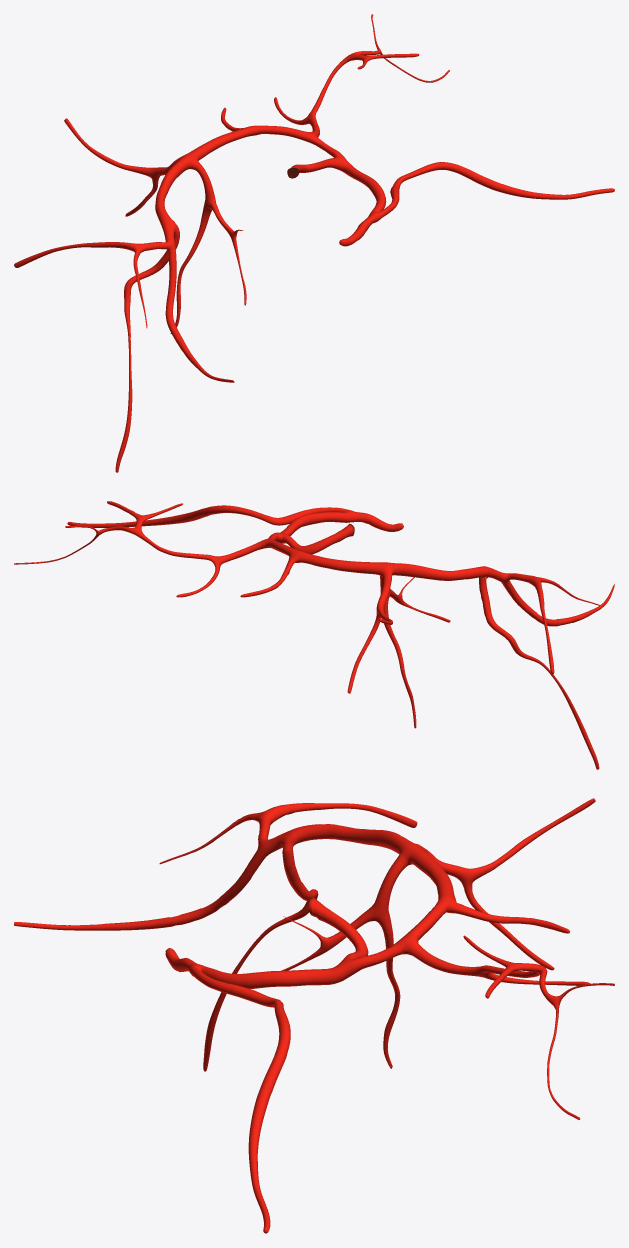
File: CBD_Inner.fbx
3 renders of one model, top to bottom at view 1: azimuth 30°, elevation 25°; view 2: azimuth 150°, elevation 25°; view 3: azimuth 270°, elevation 25°, orthographic. The views are drawn at different scales.
Parts seen in each view (by area): view 1: CBD_Inner; view 2: CBD_Inner; view 3: CBD_Inner.
Boxes of the visible parts, x1,y1,x2,y2 form: CBD_Inner: (14,14,614,472); CBD_Inner: (14,501,614,769); CBD_Inner: (14,798,614,1233).
Bounding box in the file's own units: 187 × 83.96 × 125.
